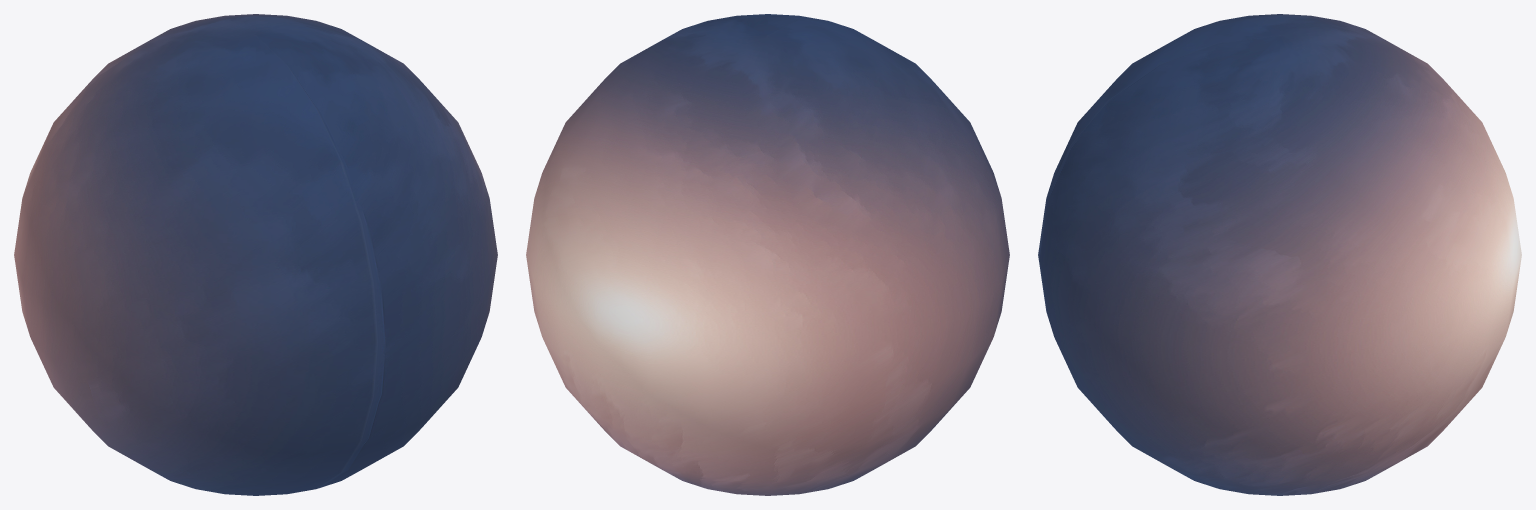
3 views of the same model, side by side, from view 1: azimuth 30°, elevation 25°; view 2: azimuth 150°, elevation 25°; view 3: azimuth 270°, elevation 25° (orthographic).
Parts seen in each view (by area): view 1: Sky; view 2: Sky; view 3: Sky.
Boxes of the visible parts, x1,y1,x2,y2 form: Sky: (14,14,497,495); Sky: (526,14,1009,495); Sky: (1038,14,1521,495).
Bounding box in the file's own units: 12.02 × 12.02 × 12.02.
Materials: 4 (4 with a texture image).
